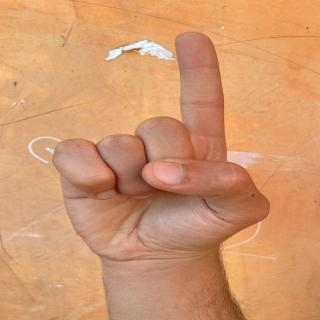BAA: (46, 26, 268, 263)
